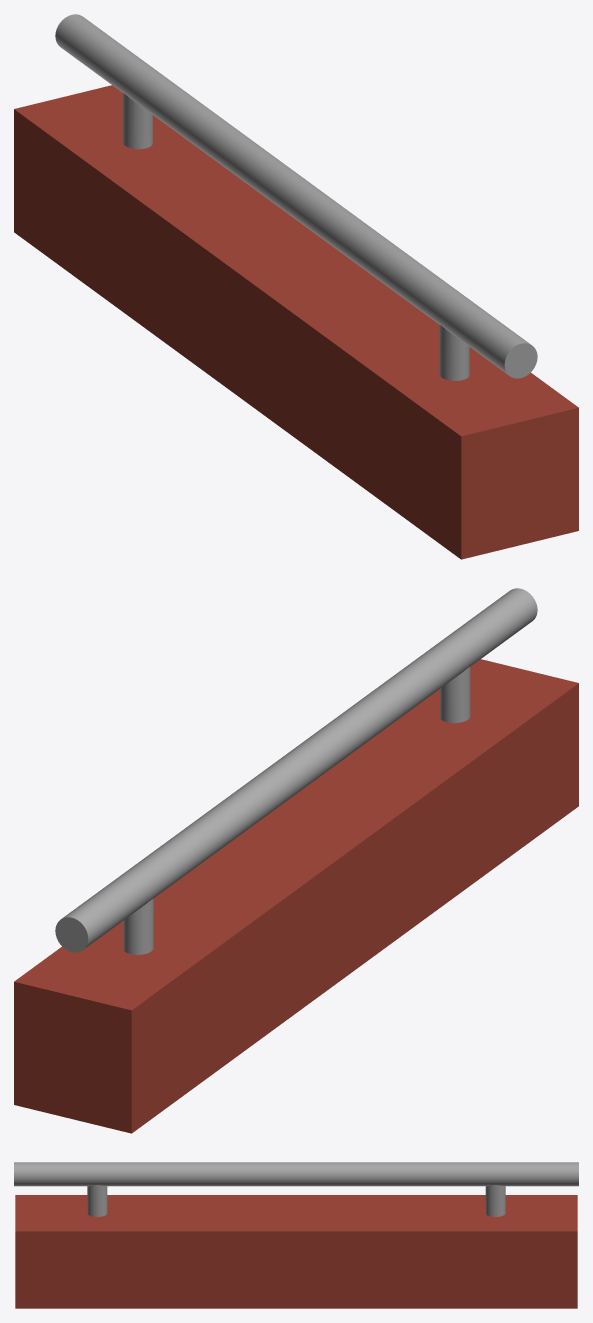
File: Canal guard rail.fbx
3 renders of one model, top to bottom at view 1: azimuth 30°, elevation 25°; view 2: azimuth 150°, elevation 25°; view 3: azimuth 270°, elevation 25°, orthographic. The views are drawn at different scales.
Parts seen in each view (by area): view 1: Cube.003; view 2: Cube.003; view 3: Cube.003.
Boxes of the visible parts, left/top/right/bottom form: Cube.003: left=14, top=14, right=578, bottom=559; Cube.003: left=14, top=588, right=578, bottom=1133; Cube.003: left=14, top=1162, right=578, bottom=1308.
Size of the model in its own units: 86.74 by 142 by 573.
